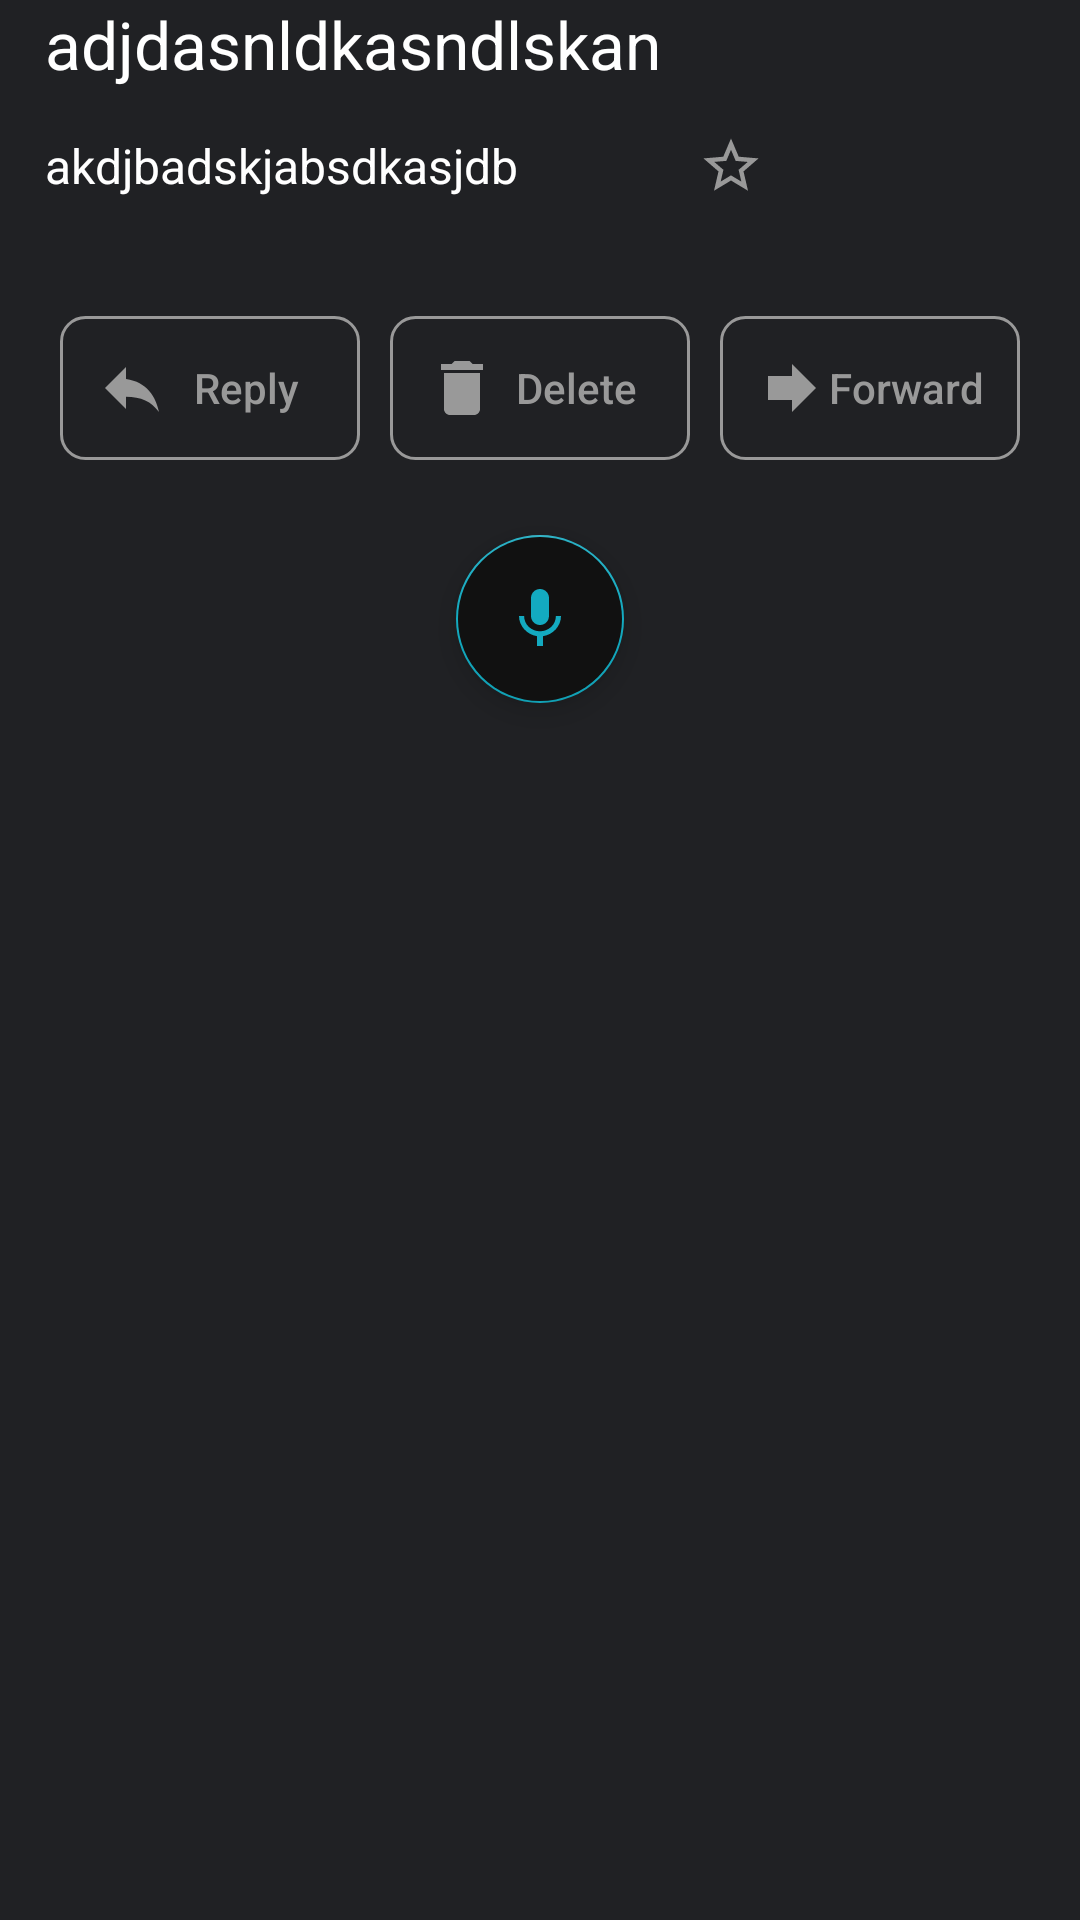

Where icons sit on this 1080 × 1920 app screen, as (x1, y1, x2, y2):
mic: (456, 535, 624, 703)
star: (704, 139, 758, 191)
